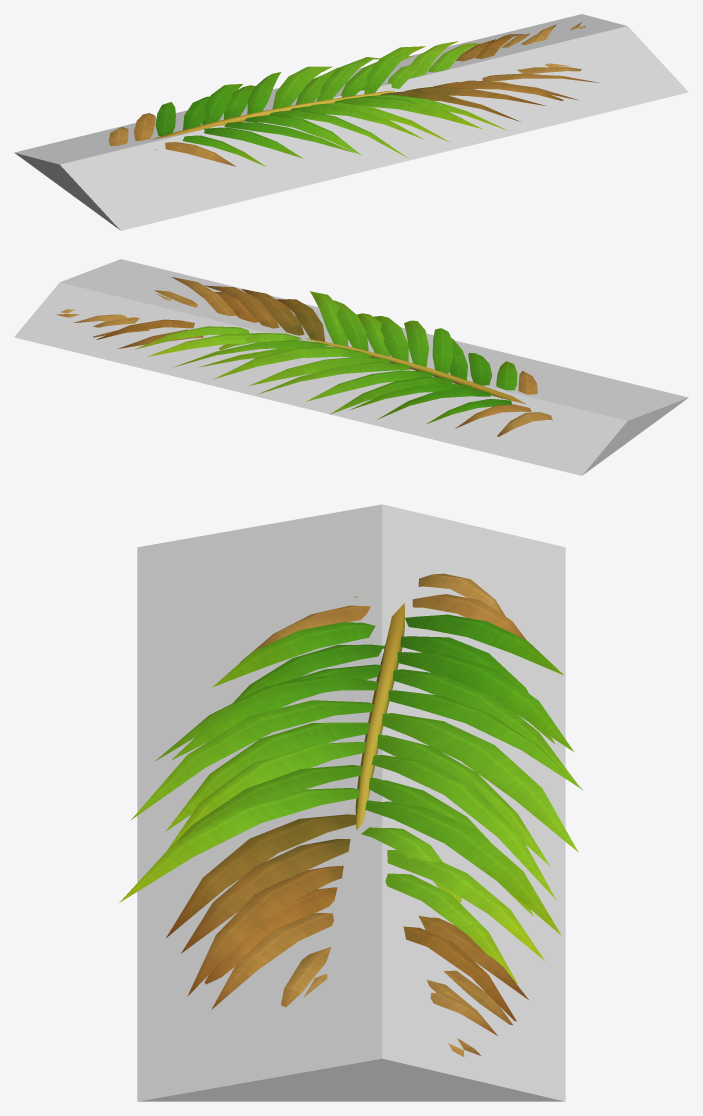
The model's file is IO_PalmFrond_Fallen_B.glb.
3 views of the same model, one above another, from view 1: azimuth 30°, elevation 25°; view 2: azimuth 150°, elevation 25°; view 3: azimuth 270°, elevation 25° (orthographic). The views are drawn at different scales.
Parts seen in each view (by area): view 1: IO_PalmFrond_Fallen_B_COL, IO_PalmFrond_Fallen_B_LOD0; view 2: IO_PalmFrond_Fallen_B_COL, IO_PalmFrond_Fallen_B_LOD0; view 3: IO_PalmFrond_Fallen_B_COL, IO_PalmFrond_Fallen_B_LOD0.
Boxes of the visible parts, x1,y1,x2,y2 form: IO_PalmFrond_Fallen_B_COL: (14,14,688,230); IO_PalmFrond_Fallen_B_LOD0: (108,22,601,166); IO_PalmFrond_Fallen_B_COL: (14,259,688,475); IO_PalmFrond_Fallen_B_LOD0: (56,277,552,436); IO_PalmFrond_Fallen_B_COL: (137,504,565,1101); IO_PalmFrond_Fallen_B_LOD0: (119,573,582,1056).
Size of what is drawn, in the model's own units: 2.09 by 0.1188 by 0.7433.
2 materials, 2 textured.
